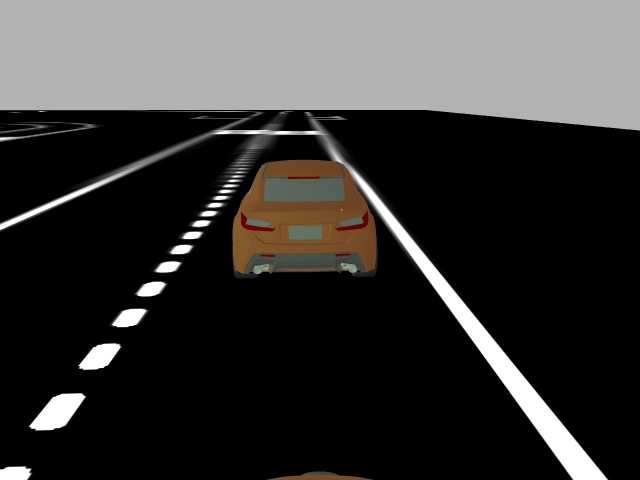obstacle_car: (228, 158, 379, 278)
